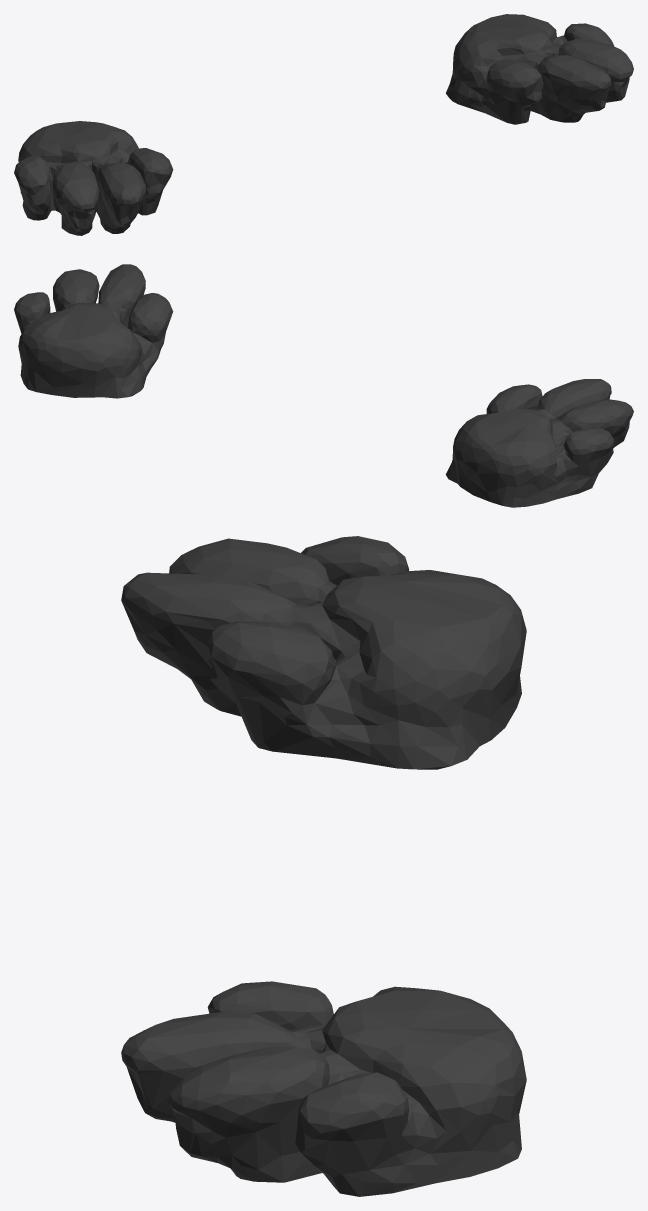
File: details_HL_greyhound_toes.glb
The picture shows the model from 3 angles, top to bottom: view 1: azimuth 30°, elevation 25°; view 2: azimuth 150°, elevation 25°; view 3: azimuth 270°, elevation 25°; orthographic projection. The views are drawn at different scales.
Visible parts, largest first — view 1: details_HL_greyhound_toes; view 2: details_HL_greyhound_toes; view 3: details_HL_greyhound_toes.
Part boxes in pixels (left/top/right/bottom): details_HL_greyhound_toes: left=14, top=14, right=633, bottom=235; details_HL_greyhound_toes: left=14, top=264, right=633, bottom=507; details_HL_greyhound_toes: left=121, top=536, right=526, bottom=1196.
Size of the model in its own units: 0.0728 by 0.00733 by 0.0217.
Materials: 1 (1 with a texture image).
